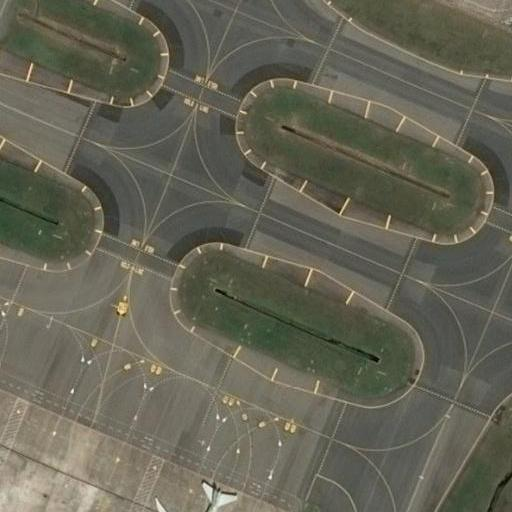Aircraft: (149, 470, 256, 512), (151, 477, 260, 512)
